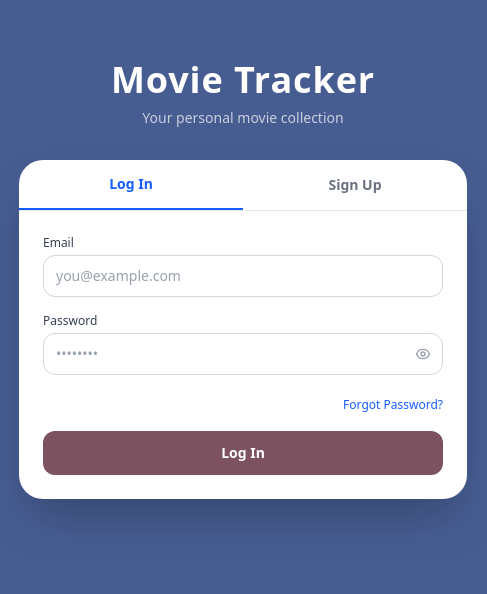
Test case: AuthPage › shows password mismatch error on sign up
The image size is (487, 594).
Click the button "Sign Up": x=355, y=184 x1=243 y1=160 x2=467 y2=210
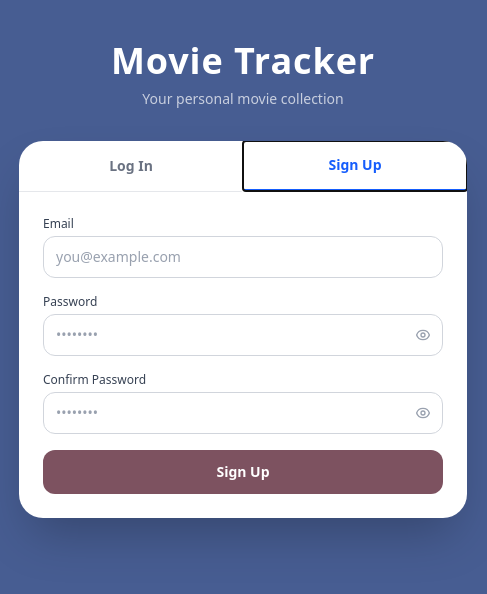
In the field with placeholder "you@example.com": x=243, y=256 x1=43 y1=236 x2=443 y2=278, type "test@example.com"
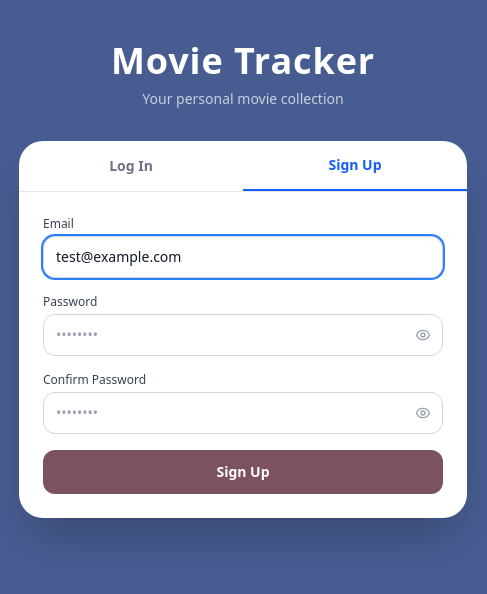
In the 1st password field with placeholder "••••••••": x=243, y=334 x1=43 y1=314 x2=443 y2=356, type "password123"
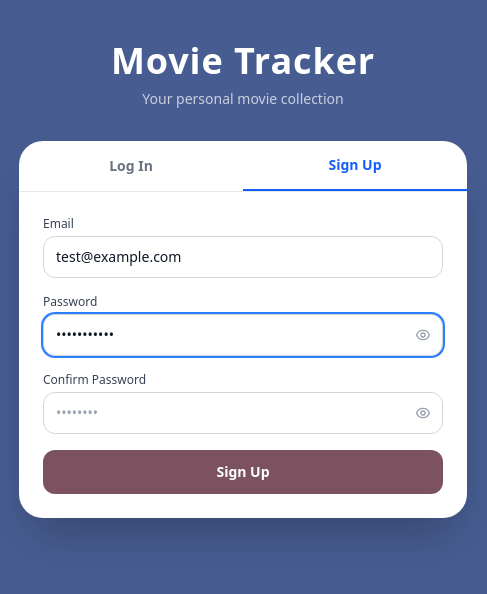
In the password field with placeholder "••••••••": x=243, y=412 x1=43 y1=392 x2=443 y2=434, type "different456"
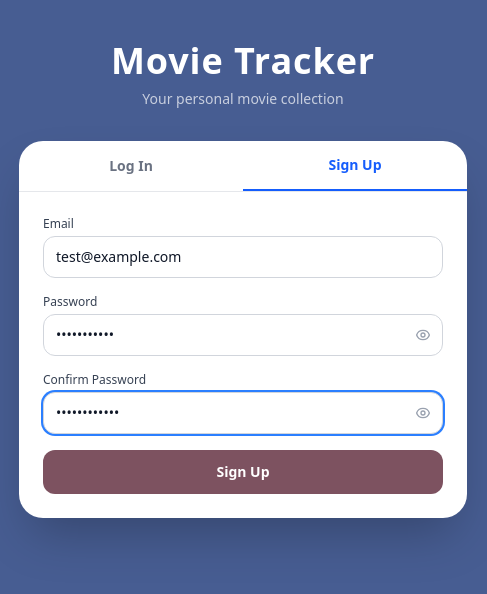
Click the button "Sign Up" below "Confirm Password": x=243, y=472 x1=43 y1=450 x2=443 y2=494
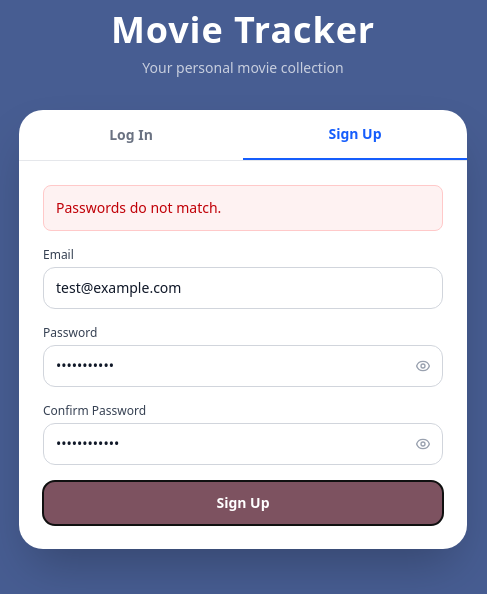
Expected: the text "Passwords do not match." is shown, x1=43 y1=184 x2=443 y2=230
